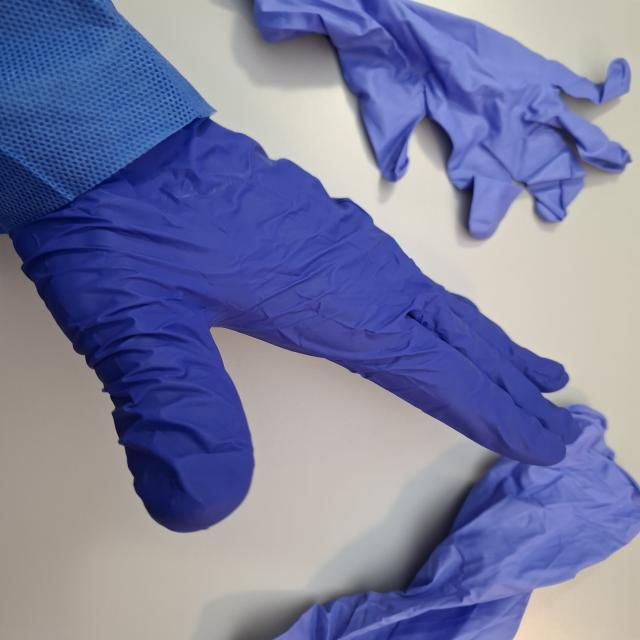glove_on: (3, 110, 584, 535)
